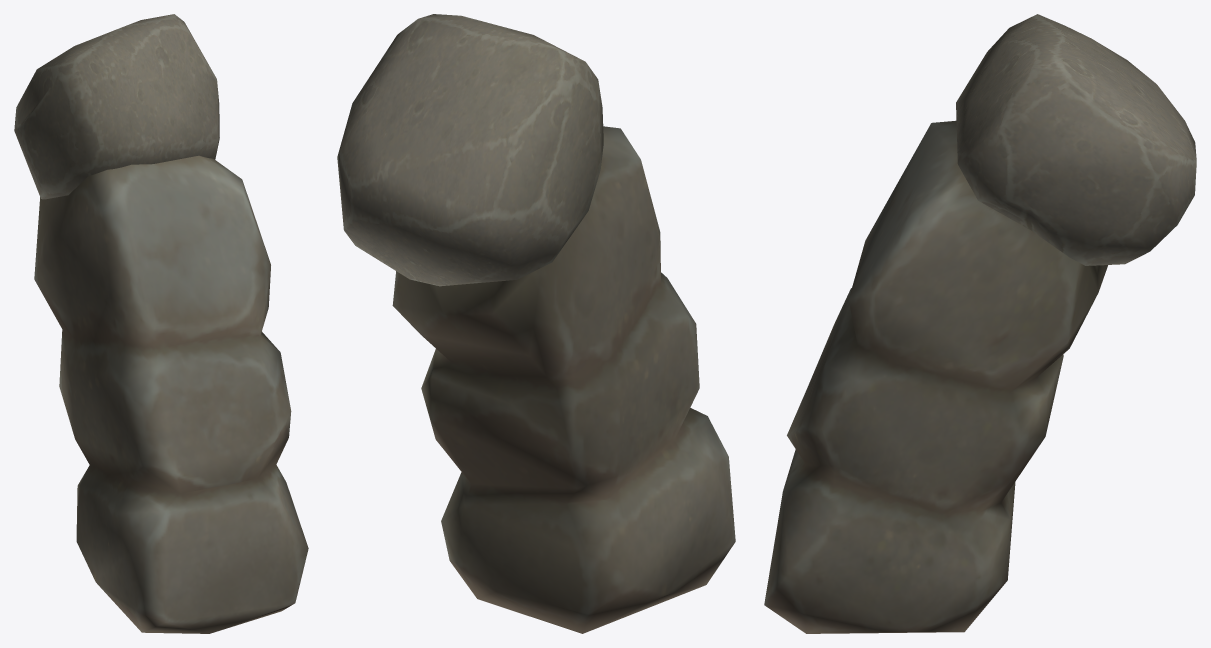
File: SM_FW01_Ruins_Int_Ceiling_6x6_Arch_04.fbx
The picture shows the model from 3 angles, left to right: view 1: azimuth 30°, elevation 25°; view 2: azimuth 150°, elevation 25°; view 3: azimuth 270°, elevation 25°; orthographic projection. The views are drawn at different scales.
Visible parts, largest first — view 1: SM_FW01_Ruins_Int_Ceiling_6x6_Arch_04_LOD0; view 2: SM_FW01_Ruins_Int_Ceiling_6x6_Arch_04_LOD0; view 3: SM_FW01_Ruins_Int_Ceiling_6x6_Arch_04_LOD0.
Boxes of the visible parts, x1,y1,x2,y2 form: SM_FW01_Ruins_Int_Ceiling_6x6_Arch_04_LOD0: (14,14,308,633); SM_FW01_Ruins_Int_Ceiling_6x6_Arch_04_LOD0: (337,14,735,633); SM_FW01_Ruins_Int_Ceiling_6x6_Arch_04_LOD0: (764,14,1196,633).
Size of what is drawn, in the model's own units: 0.7461 by 2.09 by 1.43.
